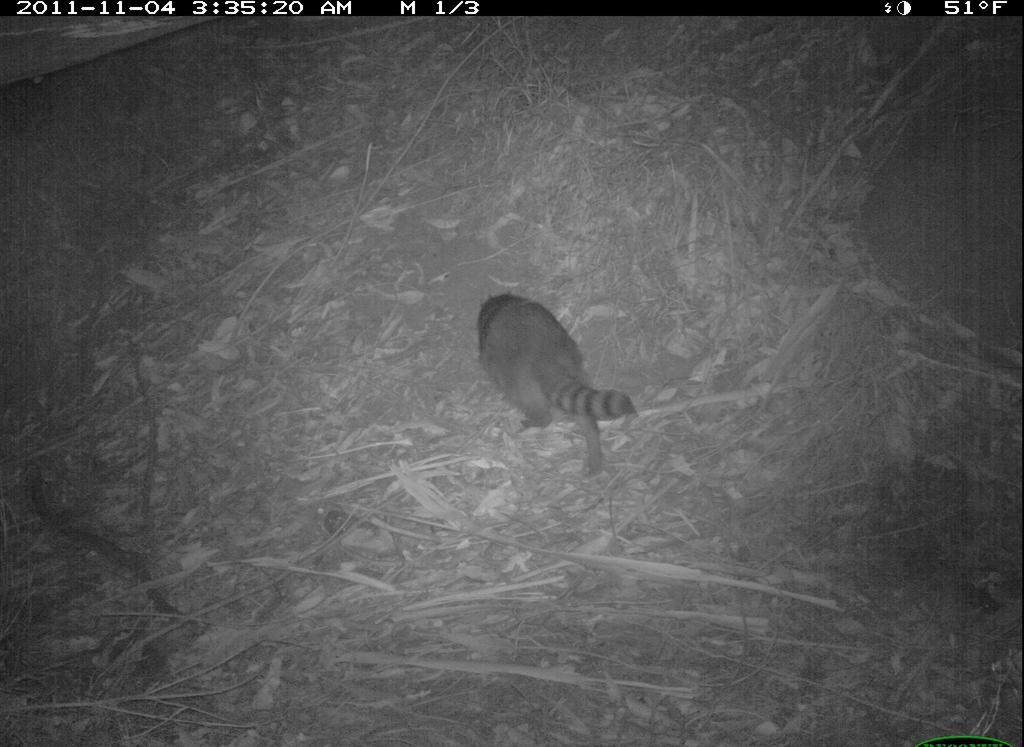raccoon: (466, 286, 635, 466)
